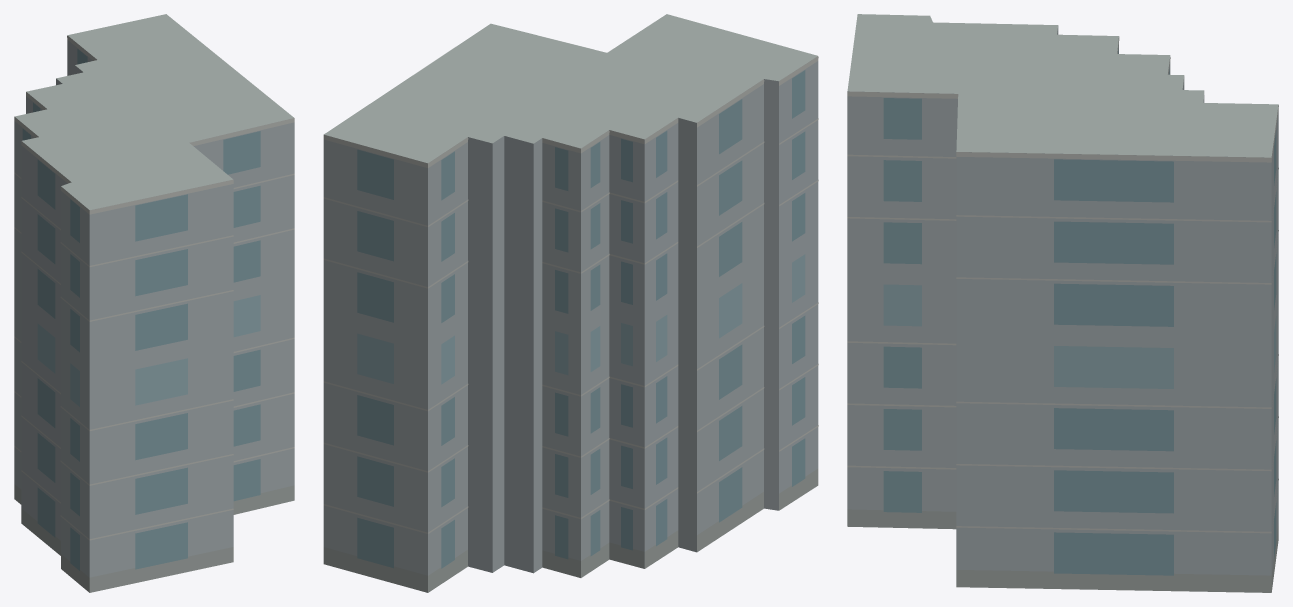
The model's file is survey-upis-32980847.glb.
The picture shows the model from 3 angles, left to right: view 1: azimuth 30°, elevation 25°; view 2: azimuth 150°, elevation 25°; view 3: azimuth 270°, elevation 25°; orthographic projection. The views are drawn at different scales.
Visible parts, largest first — view 1: survey-upis-32980847.tmp; view 2: survey-upis-32980847.tmp; view 3: survey-upis-32980847.tmp.
Boxes of the visible parts, <box> form: survey-upis-32980847.tmp: <box>14,14,294,592</box>; survey-upis-32980847.tmp: <box>323,14,818,592</box>; survey-upis-32980847.tmp: <box>847,14,1278,592</box>.
Bounding box in the file's own units: 15.13 × 21.35 × 19.19.
